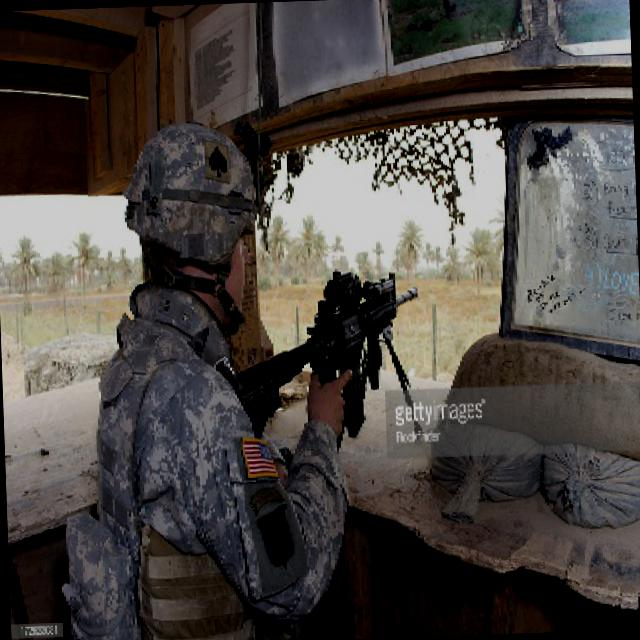long weapon: (220, 264, 426, 439)
